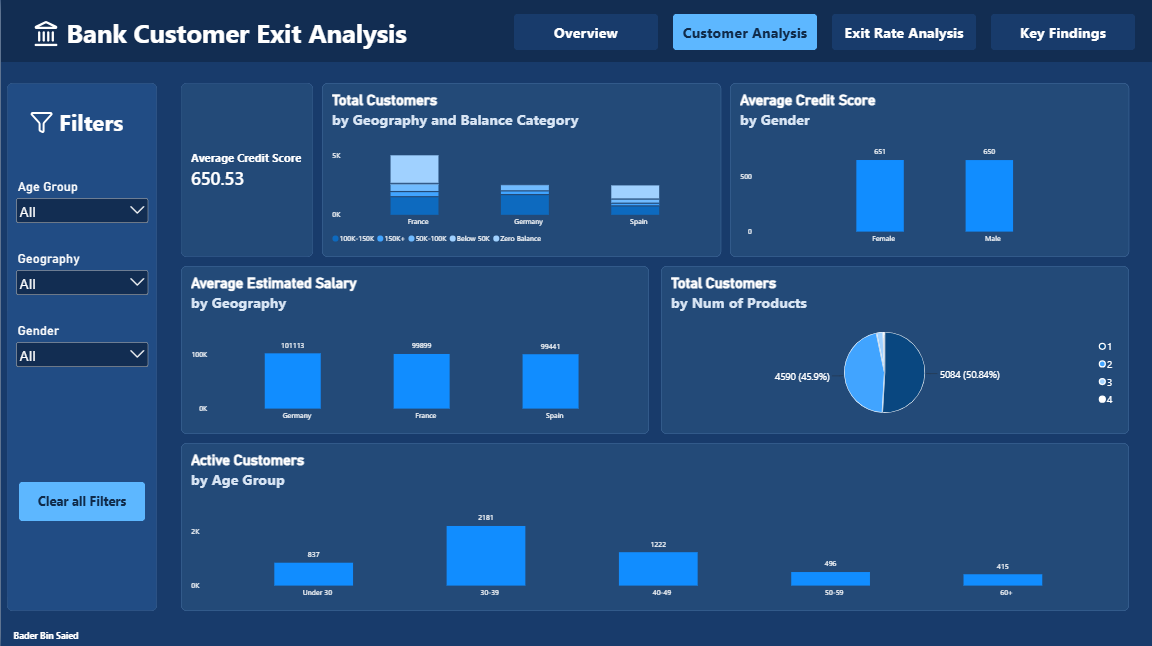

Layout of this report page (visuals, bound fields, positions):
{"tool":"powerbi","page":{"name":"Customer Analysis","canvas":[1920,1080],"ordinal":1},"visuals":[{"type":"shape","box":[10,140,250,880],"z":0},{"type":"slicer","fields":{"Values":["Churn_Modelling.Geography"]},"box":[20,420,230,75],"z":1000},{"type":"slicer","fields":{"Values":["Churn_Modelling.Gender"]},"box":[20,540,230,75],"z":2000},{"type":"slicer","fields":{"Values":["Churn_Modelling.Age Group"]},"box":[20,300,230,75],"z":3000},{"type":"textbox","box":[80,180,140.9,60],"z":4000},{"type":"image","box":[25,185,85,40],"z":5000},{"type":"actionButton","box":[30,805,210,65],"z":6000},{"type":"shape","box":[0,0,1920,105],"z":12000,"group":"g1"},{"type":"group","id":"g1","title":"Group 1","box":[0,0,1920,105],"z":13000},{"type":"actionButton","box":[855,25,240,60],"z":13000,"group":"g1"},{"type":"cardVisual","fields":{"Data":["Measures (2).Average Credit Score"]},"box":[300,140,220,290],"z":13500},{"type":"actionButton","box":[1120,25,240,60],"z":14000,"group":"g1"},{"type":"columnChart","fields":{"Category":["Churn_Modelling.Geography"],"Series":["Churn_Modelling.Balance Category"],"Y":["Measures (2).Total Customers"]},"box":[535,140,665,290],"z":14000},{"type":"clusteredColumnChart","fields":{"Category":["Churn_Modelling.Gender"],"Y":["Measures (2).Average Credit Score"]},"box":[1215,140,665,290],"z":14500},{"type":"actionButton","box":[1385,25,240,60],"z":15000,"group":"g1"},{"type":"columnChart","fields":{"Category":["Churn_Modelling.Geography"],"Y":["Measures (1).Average Estimated Salary"]},"box":[300,445,780,280],"z":15000},{"type":"pieChart","fields":{"Category":["Churn_Modelling.NumOfProducts"],"Y":["Measures (1).Total Customers"]},"box":[1100,445,780,280],"z":15500},{"type":"textbox","box":[103,28,580,60],"z":16000,"group":"g1"},{"type":"columnChart","fields":{"Category":["Churn_Modelling.Age Group"],"Y":["Measures (1).Active Customers"]},"box":[300,740,1580,280],"z":16000},{"type":"textbox","box":[5,1050,140,30],"z":16001},{"type":"image","box":[25,35,100,45],"z":19000,"group":"g1"},{"type":"actionButton","box":[1650,25,240,60],"z":20000,"group":"g1"}]}

Visuals, with their boxes in screenshot pixels (x1, y1, x2, y2), scaled from the page's 1920x1080 canvas onto the 1152x646 screenshot:
shape: [x1=6, y1=84, x2=156, y2=610]
slicer - Churn_Modelling.Geography: [x1=12, y1=251, x2=150, y2=296]
slicer - Churn_Modelling.Gender: [x1=12, y1=323, x2=150, y2=368]
slicer - Churn_Modelling.Age Group: [x1=12, y1=179, x2=150, y2=224]
textbox: [x1=48, y1=108, x2=133, y2=144]
image: [x1=15, y1=111, x2=66, y2=135]
actionButton: [x1=18, y1=482, x2=144, y2=520]
shape: [x1=0, y1=0, x2=1151, y2=63]
"Group 1" group: [x1=0, y1=0, x2=1151, y2=63]
actionButton: [x1=513, y1=15, x2=657, y2=51]
cardVisual - Measures (2).Average Credit Score: [x1=180, y1=84, x2=312, y2=257]
actionButton: [x1=672, y1=15, x2=816, y2=51]
columnChart - Churn_Modelling.Geography x Churn_Modelling.Balance Category: [x1=321, y1=84, x2=720, y2=257]
clusteredColumnChart - Churn_Modelling.Gender x Measures (2).Average Credit Score: [x1=729, y1=84, x2=1128, y2=257]
actionButton: [x1=831, y1=15, x2=975, y2=51]
columnChart - Churn_Modelling.Geography x Measures (1).Average Estimated Salary: [x1=180, y1=266, x2=648, y2=434]
pieChart - Churn_Modelling.NumOfProducts x Measures (1).Total Customers: [x1=660, y1=266, x2=1128, y2=434]
textbox: [x1=62, y1=17, x2=410, y2=53]
columnChart - Churn_Modelling.Age Group x Measures (1).Active Customers: [x1=180, y1=443, x2=1128, y2=610]
textbox: [x1=3, y1=628, x2=87, y2=645]
image: [x1=15, y1=21, x2=75, y2=48]
actionButton: [x1=990, y1=15, x2=1134, y2=51]
